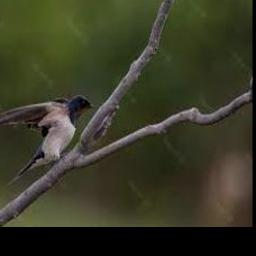Swallow: (0, 94, 95, 185)
